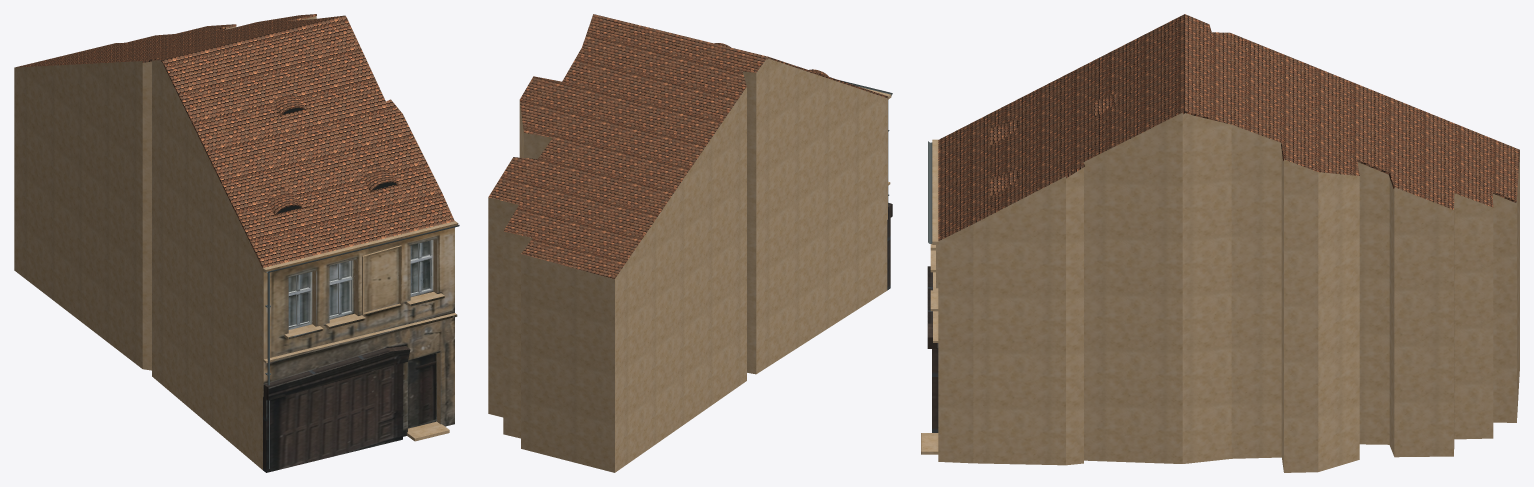
3 views of the same model, side by side, from view 1: azimuth 30°, elevation 25°; view 2: azimuth 150°, elevation 25°; view 3: azimuth 270°, elevation 25° (orthographic). The views are drawn at different scales.
Parts seen in each view (by area): view 1: Plan1965_Perimeter_Unobserved_Sides, Closed_Roof_Over_Plan_Perimeter, Front_Registered_G_Openings, Roof_End_Closures_Provisional, Closed_Timber_Shopfront, Shopfront_Cornice_Bevel_C, Photographic_Profile_Trim, Recessed_Photographic_Panes, Door_Closed_In_Recess, Window_Frame_Thickness_G, Metal_Gutters_And_Downpipe, Sills_Selected_Bevel_C (+3 smaller); view 2: Plan1965_Perimeter_Unobserved_Sides, Closed_Roof_Over_Plan_Perimeter, Roof_End_Closures_Provisional; view 3: Plan1965_Perimeter_Unobserved_Sides, Closed_Roof_Over_Plan_Perimeter, Roof_End_Closures_Provisional, Photographic_Profile_Trim.
Boxes of the visible parts, box(x1,y1,x2,y2) form: Plan1965_Perimeter_Unobserved_Sides: box(14, 68, 263, 469); Closed_Roof_Over_Plan_Perimeter: box(16, 14, 454, 267); Front_Registered_G_Openings: box(263, 227, 454, 436); Roof_End_Closures_Provisional: box(15, 16, 316, 265); Closed_Timber_Shopfront: box(263, 363, 402, 472); Shopfront_Cornice_Bevel_C: box(264, 346, 410, 400); Photographic_Profile_Trim: box(262, 221, 458, 363); Recessed_Photographic_Panes: box(288, 240, 429, 325); Door_Closed_In_Recess: box(408, 353, 436, 428); Window_Frame_Thickness_G: box(288, 240, 433, 329); Metal_Gutters_And_Downpipe: box(265, 225, 459, 468); Sills_Selected_Bevel_C: box(284, 293, 444, 339); Plan1965_Perimeter_Unobserved_Sides: box(488, 98, 887, 472); Closed_Roof_Over_Plan_Perimeter: box(488, 14, 887, 278); Roof_End_Closures_Provisional: box(488, 57, 885, 278); Plan1965_Perimeter_Unobserved_Sides: box(938, 151, 1519, 472); Closed_Roof_Over_Plan_Perimeter: box(938, 14, 1519, 240); Roof_End_Closures_Provisional: box(939, 112, 1518, 252); Photographic_Profile_Trim: box(932, 139, 938, 342).
Bounding box in the file's own units: 8.24 × 12 × 18.46.
Materials: 7 (4 with a texture image).
